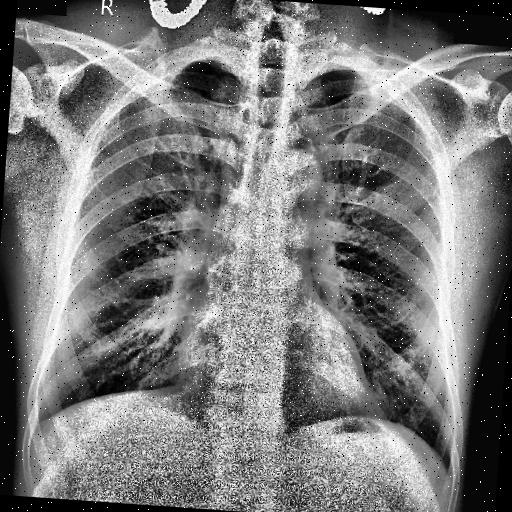0- Aortic enlargement: (262, 149, 321, 218), (272, 146, 324, 198)
13- Pulmonary fibrosis: (372, 153, 400, 181)
